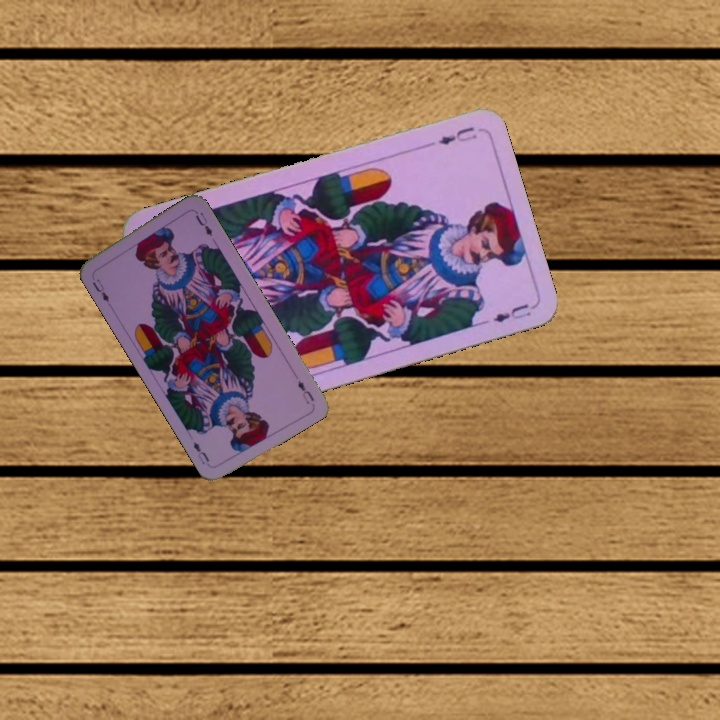EU: (434, 122, 480, 148), (88, 275, 113, 309), (294, 376, 317, 407)
